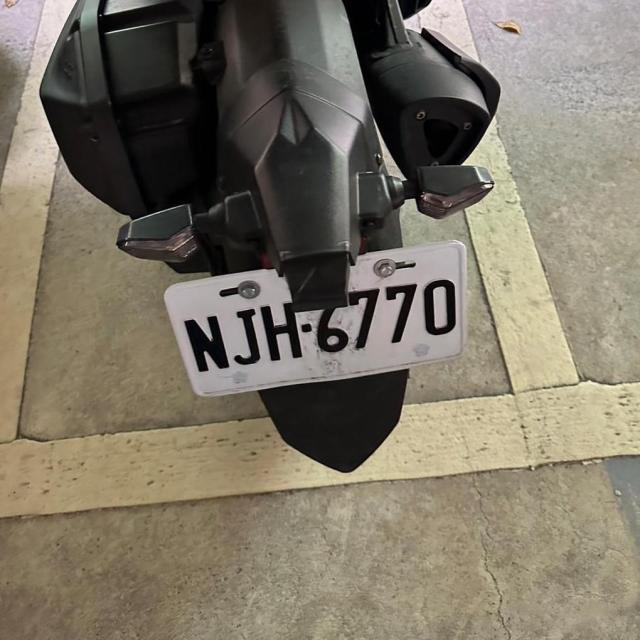W: (160, 240, 475, 406)
